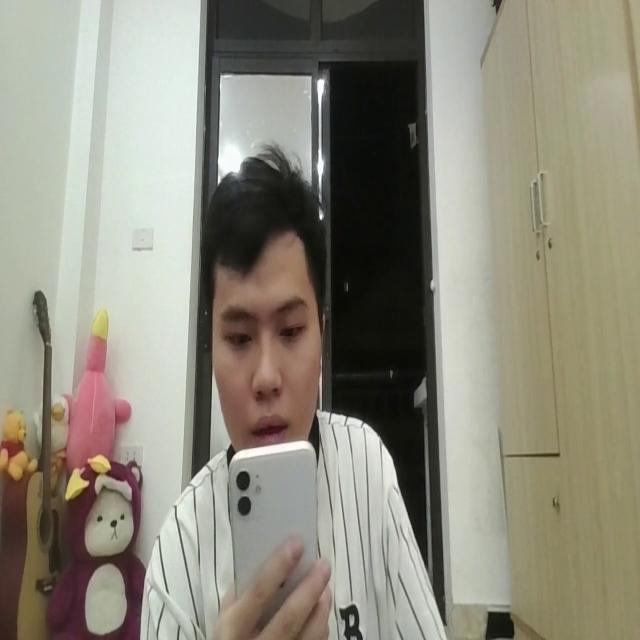phone: (226, 442, 316, 604)
student: (140, 148, 445, 640)
